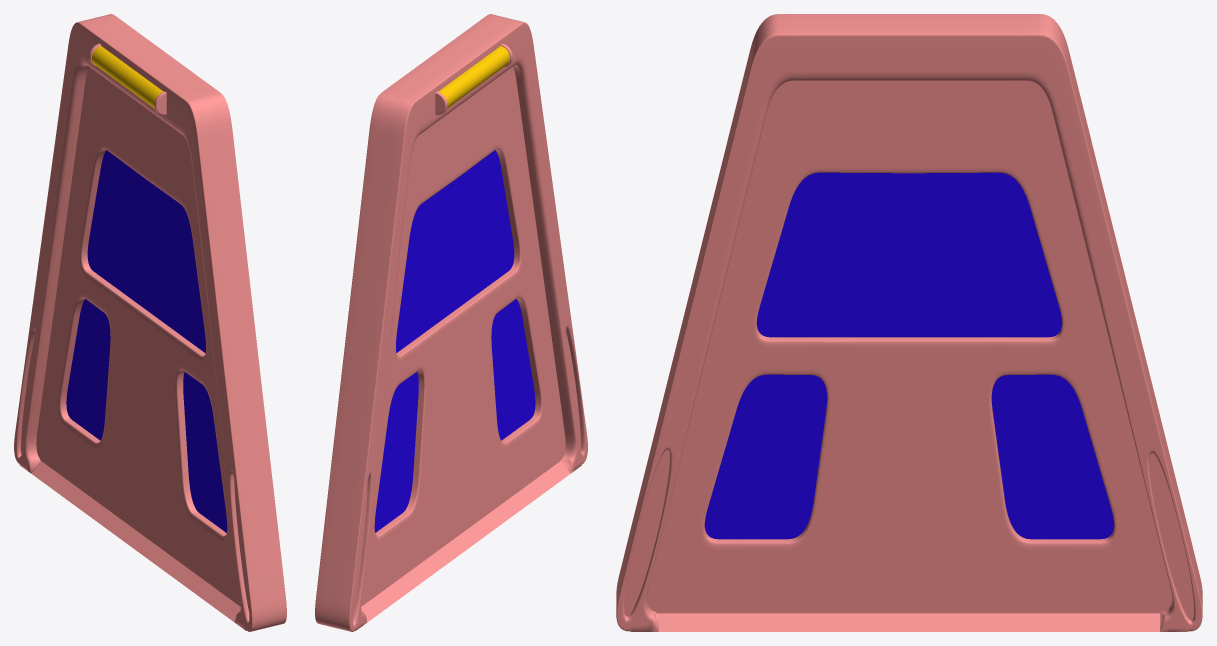
Rendered from small door.FBX.
The picture shows the model from 3 angles, left to right: view 1: azimuth 30°, elevation 25°; view 2: azimuth 150°, elevation 25°; view 3: azimuth 270°, elevation 25°; orthographic projection. The views are drawn at different scales.
Parts seen in each view (by area): view 1: Door001, Gate001, Light up001; view 2: Door001, Gate001, Light up001; view 3: Door001, Gate001.
Boxes of the visible parts, <box> form: Door001: <box>36,67,240,606</box>; Gate001: <box>14,14,286,631</box>; Light up001: <box>89,43,166,114</box>; Door001: <box>361,67,565,606</box>; Gate001: <box>315,14,587,631</box>; Light up001: <box>435,43,512,114</box>; Door001: <box>647,81,1171,613</box>; Gate001: <box>616,14,1202,631</box>.
Size of the model in its own units: 22.74 by 231 by 206.
